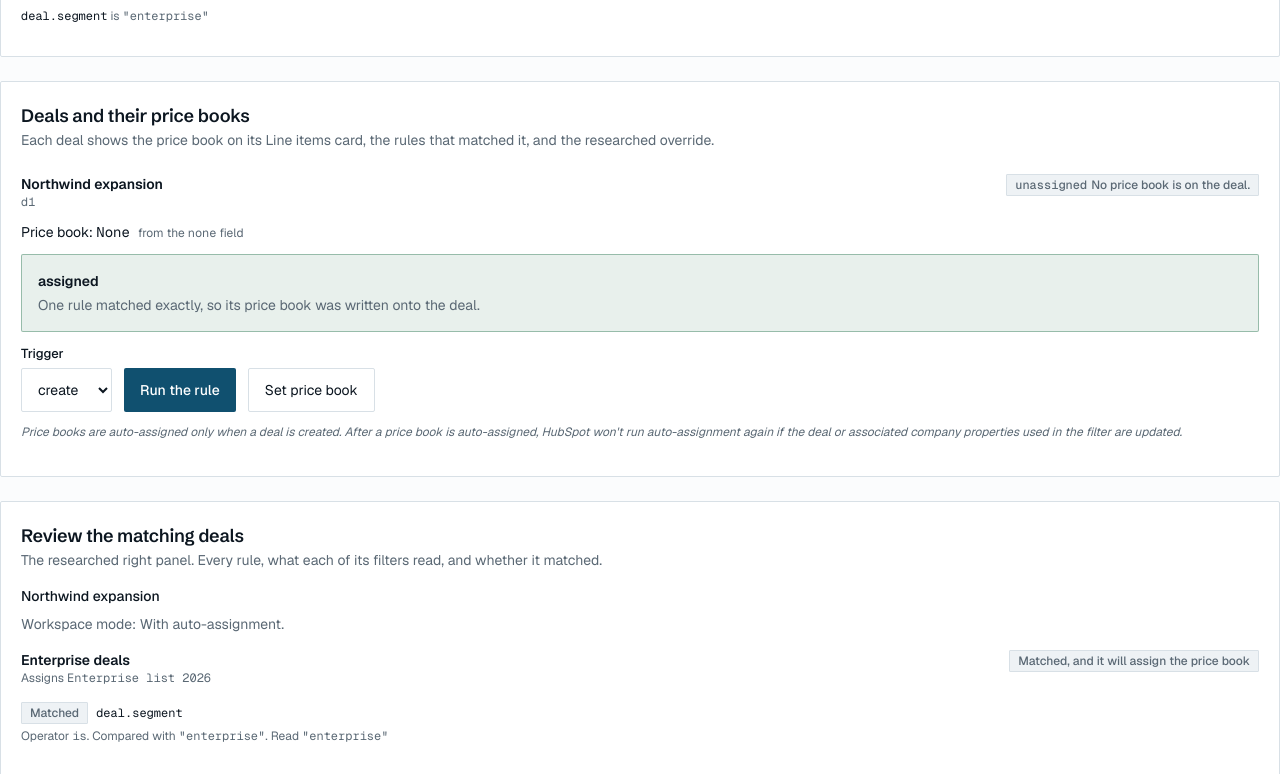
Test case: the deal panel › does not promise an override with a book of your own
(page scrolled)
Click the button "Set price book" at (311, 390), box [248,368,375,412]
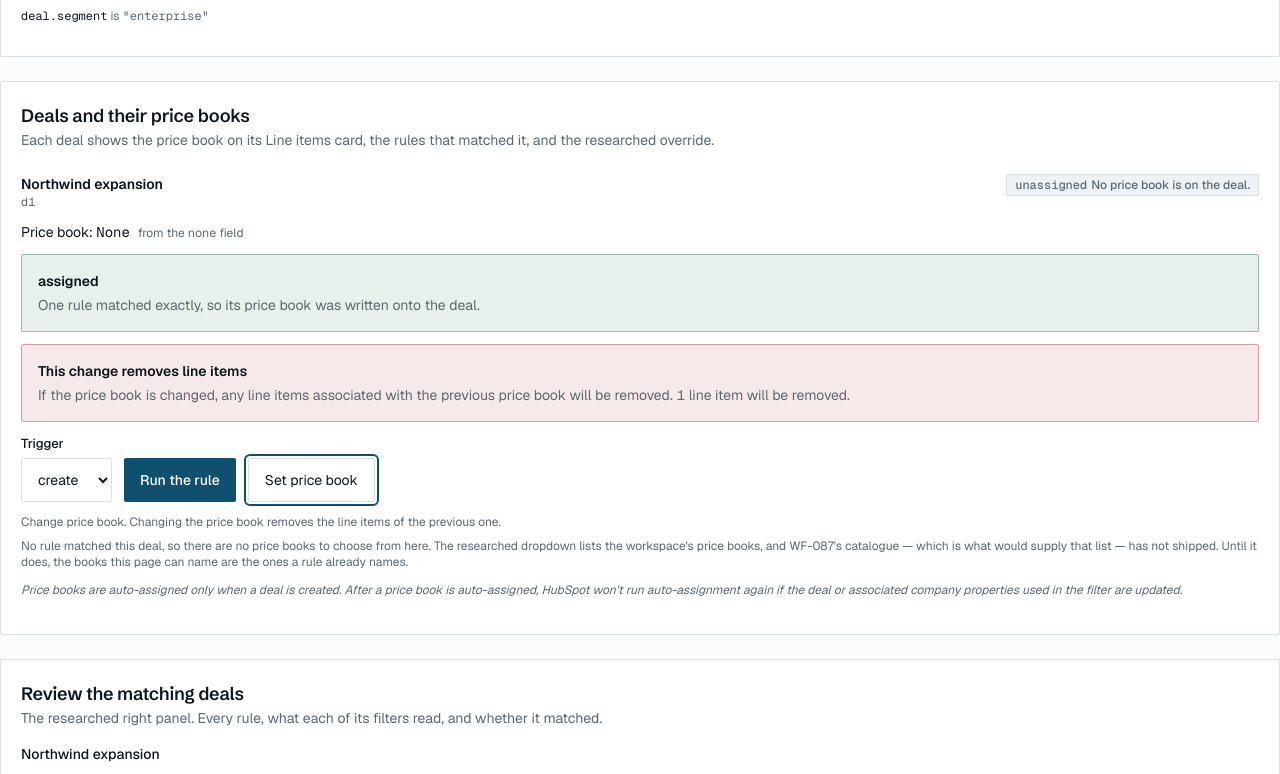
Expected: the text "has not shipped" is shown, [21,538,1257,570]
